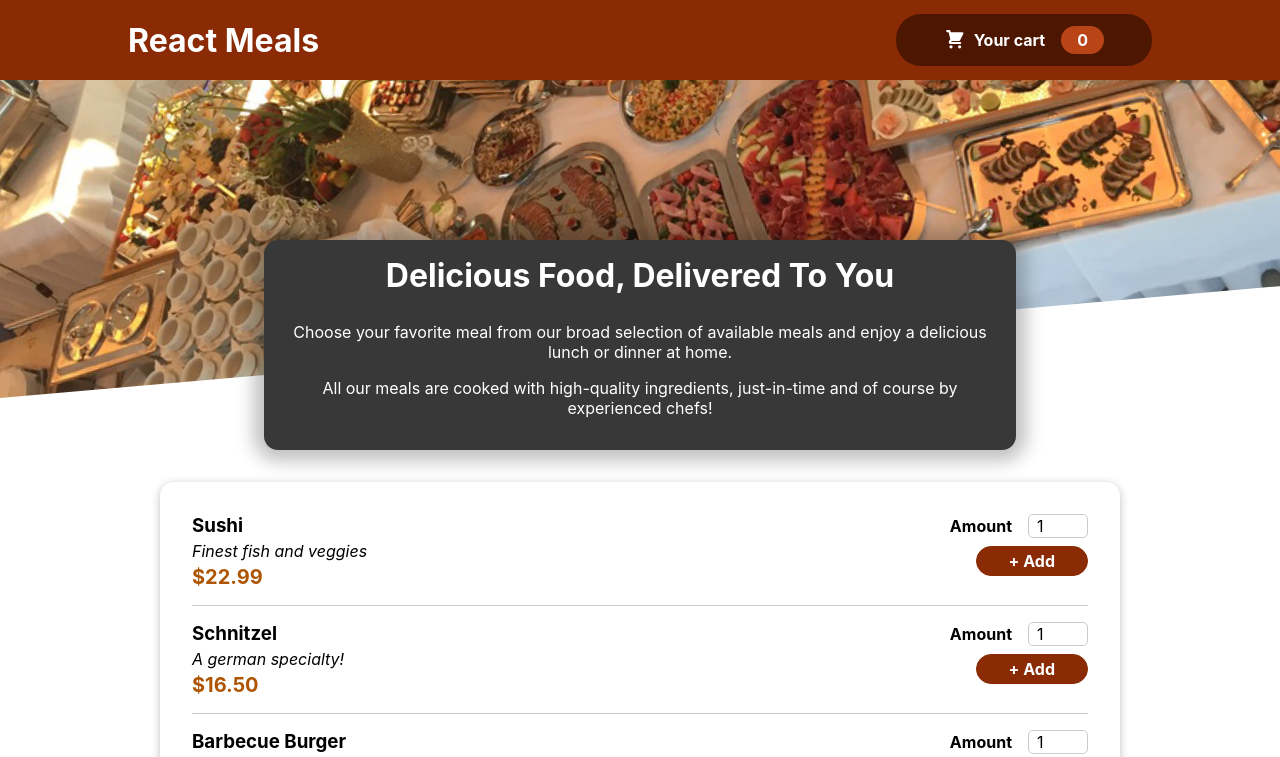
Scenario: shows modal window then closes it by clicking Close button
The width and height of the screenshot is (1280, 757).
Step 1. Click the button "Your cart 0" → [1024, 40], box left=896, top=14, right=1152, bottom=66
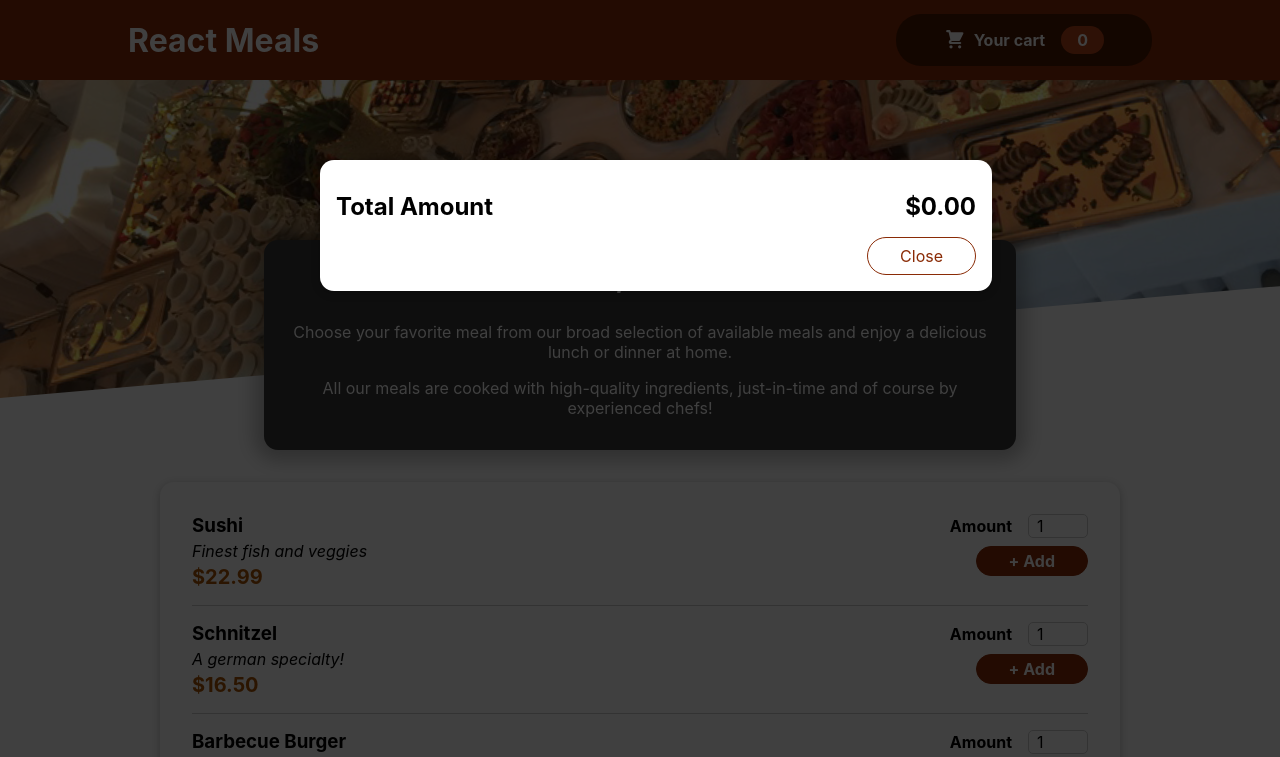
Check: the text "Total Amount" is shown, box left=336, top=192, right=493, bottom=221
Step 2. Click the button "Close" → [922, 256], box left=867, top=237, right=976, bottom=275
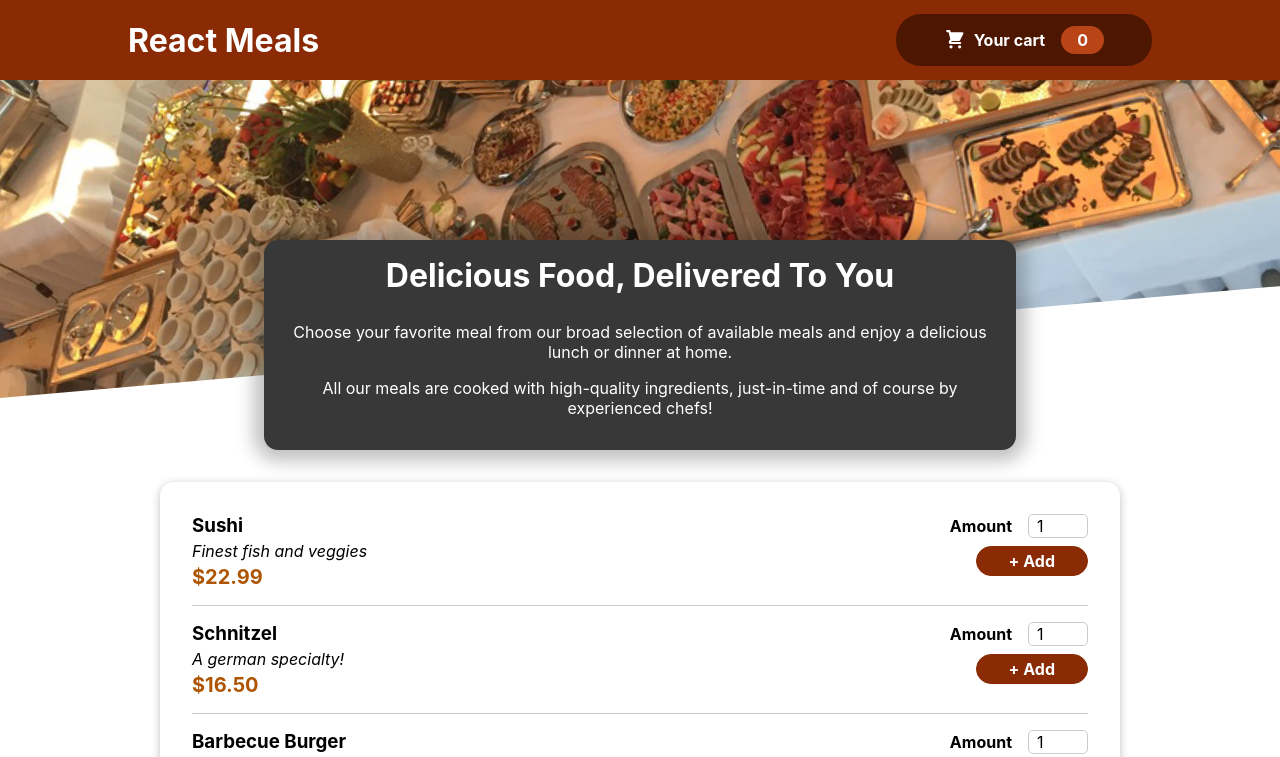
Check: the text "Total Amount" is gone
